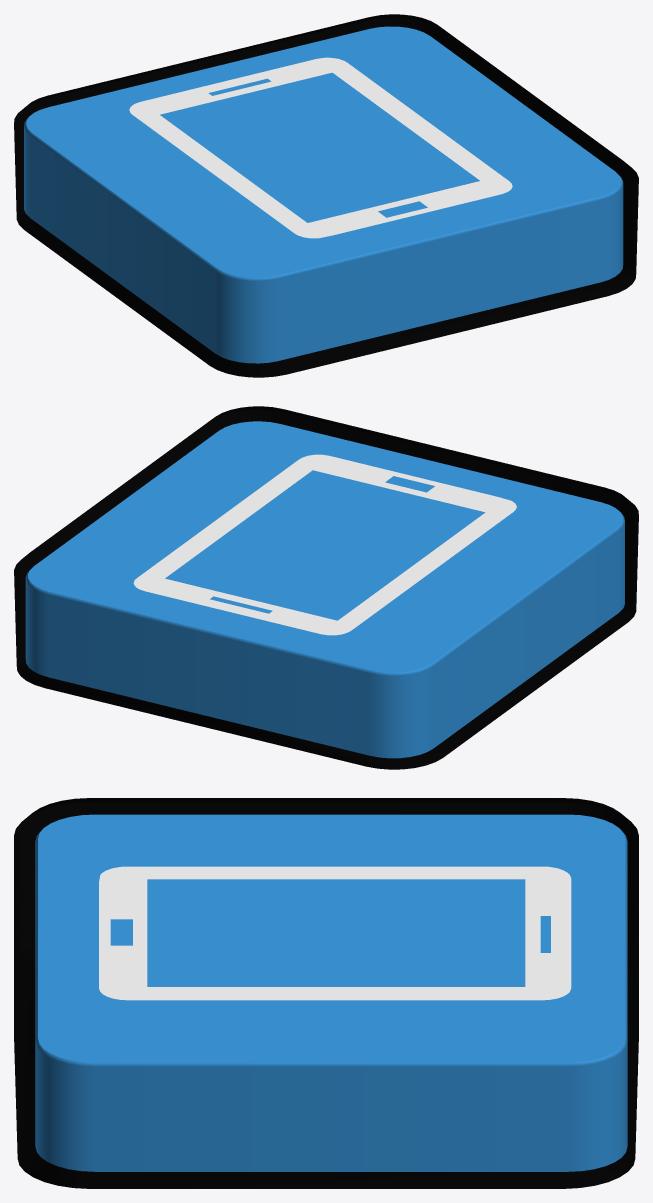
The model's file is CellPhone.obj.
3 renders of one model, top to bottom at view 1: azimuth 30°, elevation 25°; view 2: azimuth 150°, elevation 25°; view 3: azimuth 270°, elevation 25°, orthographic. The views are drawn at different scales.
Parts seen in each view (by area): view 1: CellPhone; view 2: CellPhone; view 3: CellPhone.
Part boxes in pixels (x1,y1,x2,y2): CellPhone: (14, 14, 638, 377); CellPhone: (14, 406, 638, 769); CellPhone: (14, 798, 638, 1188).
Size of the model in its own units: 1.06 by 0.2484 by 1.06.
